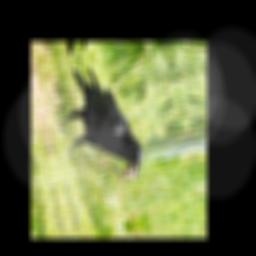Crow: (50, 60, 149, 190)
